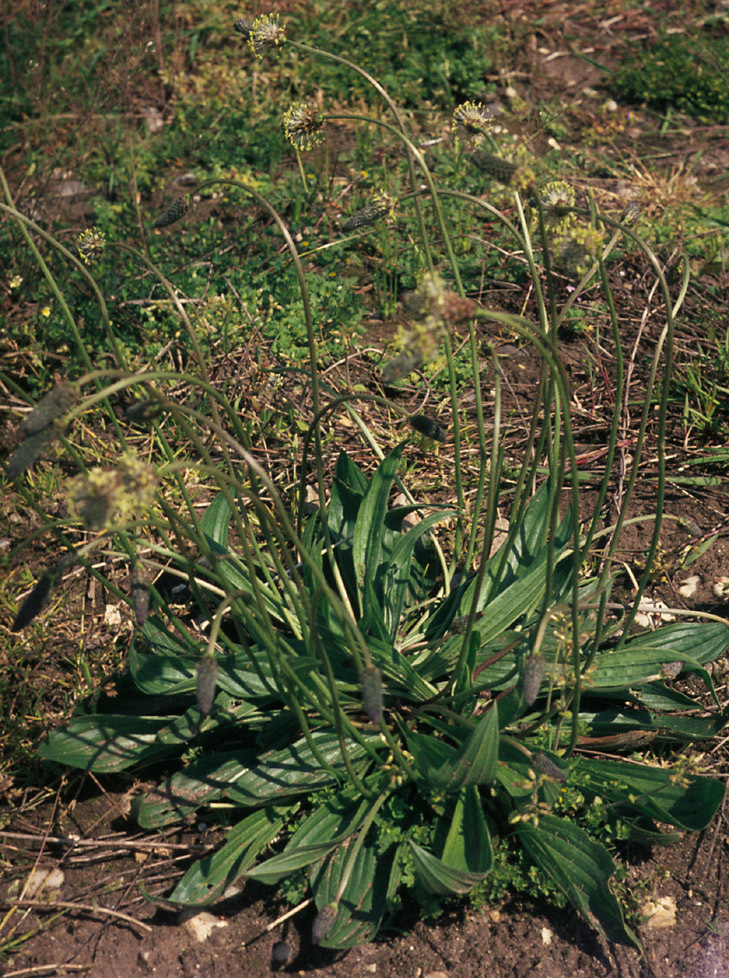buckhorn plantain: (69, 28, 674, 903)
